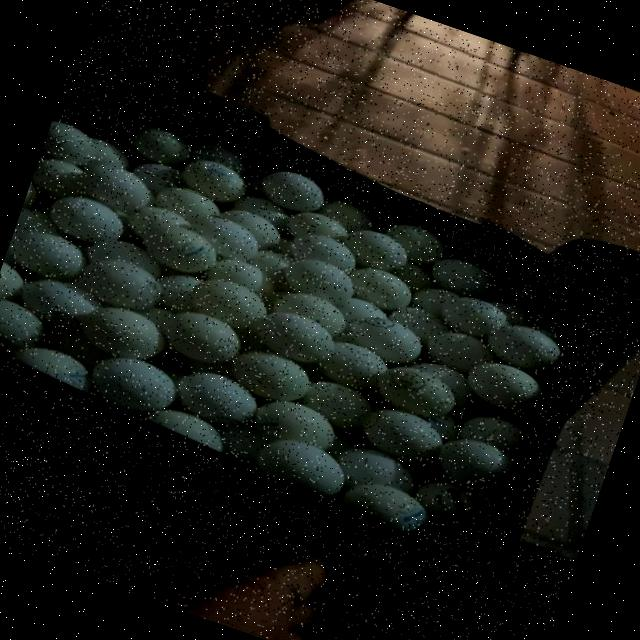ping-pong-ball: (163, 357, 270, 440), (248, 426, 358, 504), (349, 394, 452, 474), (76, 292, 178, 370), (85, 344, 184, 424), (148, 297, 248, 373), (8, 268, 108, 344), (247, 297, 346, 373), (223, 336, 322, 412), (340, 472, 442, 544), (178, 264, 278, 337), (368, 354, 468, 426), (70, 248, 166, 320), (457, 350, 552, 420), (2, 217, 94, 289), (477, 308, 570, 379), (67, 152, 160, 222), (256, 394, 351, 462), (339, 305, 432, 374), (137, 212, 224, 284), (179, 205, 272, 272), (334, 256, 426, 318), (171, 146, 258, 211), (44, 186, 128, 253), (338, 218, 421, 284), (252, 157, 335, 222), (114, 109, 196, 174), (280, 221, 370, 280), (415, 321, 498, 384), (274, 250, 360, 310), (432, 282, 512, 344), (420, 248, 502, 306), (377, 213, 449, 270)
